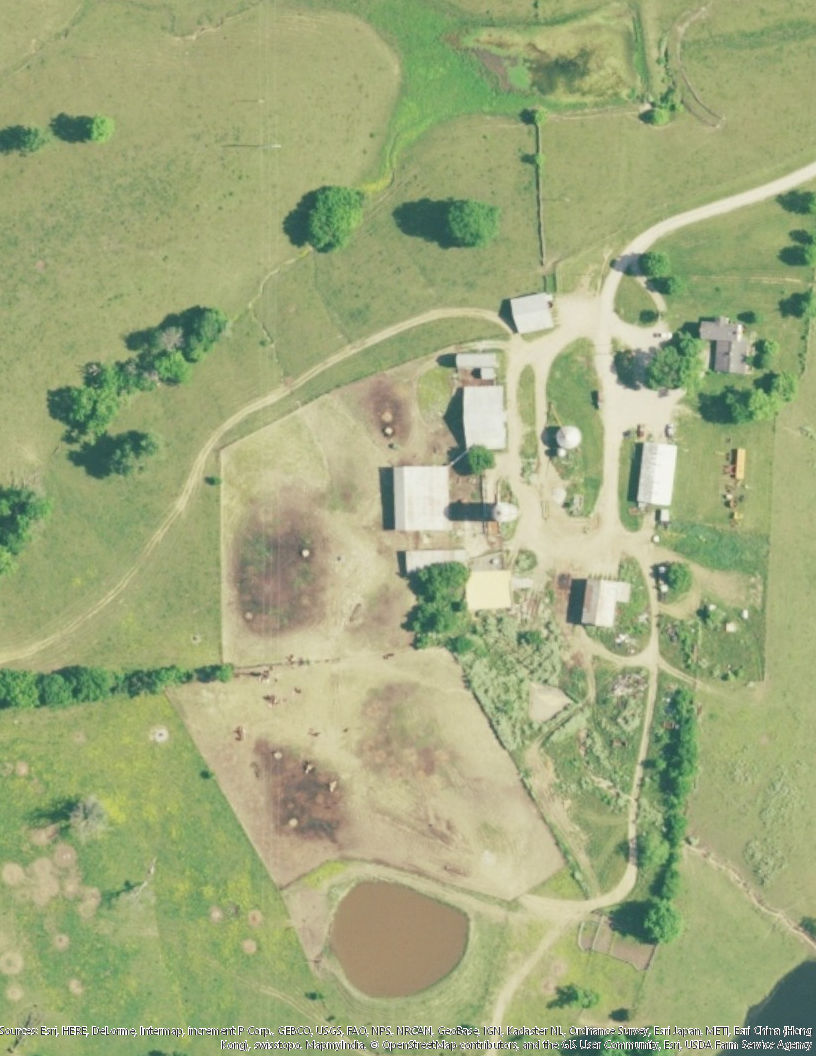cafo: (393, 462, 453, 535), (461, 383, 507, 453), (634, 438, 679, 509), (509, 291, 554, 335)
